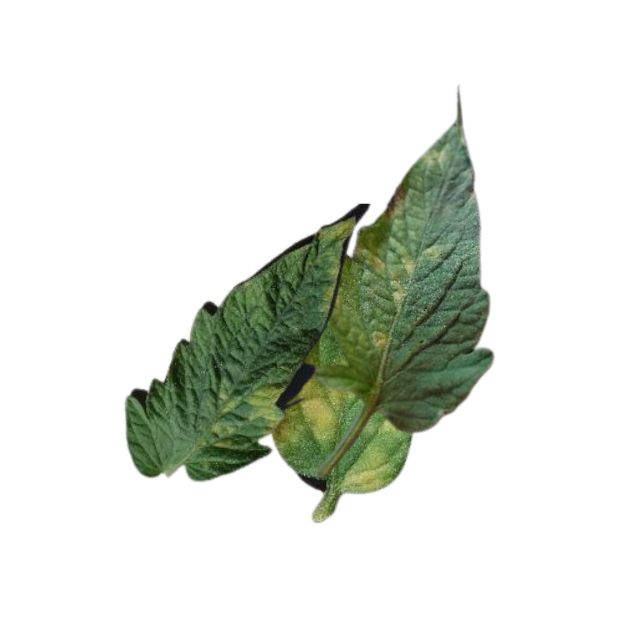Leaf_Mold: (276, 372, 354, 440), (212, 385, 284, 433), (367, 249, 420, 313), (338, 447, 390, 493), (380, 176, 408, 224), (367, 328, 388, 352)
